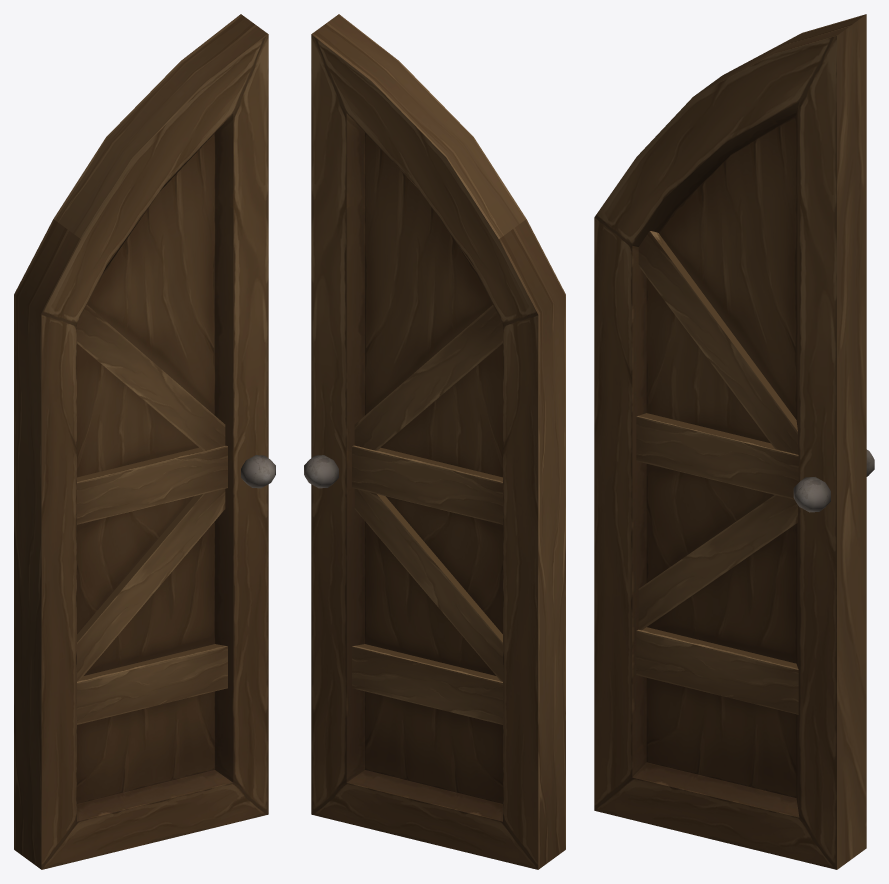
File: Door_1.FBX
3 views of the same model, side by side, from view 1: azimuth 30°, elevation 25°; view 2: azimuth 150°, elevation 25°; view 3: azimuth 330°, elevation 25° (orthographic). The views are drawn at different scales.
Parts seen in each view (by area): view 1: Door_1; view 2: Door_1; view 3: Door_1.
Part boxes in pixels (bbox=[...]): Door_1: bbox=[14, 14, 275, 869]; Door_1: bbox=[304, 14, 565, 869]; Door_1: bbox=[594, 14, 874, 869].
Bounding box in the file's own units: 698 × 2293 × 308.
